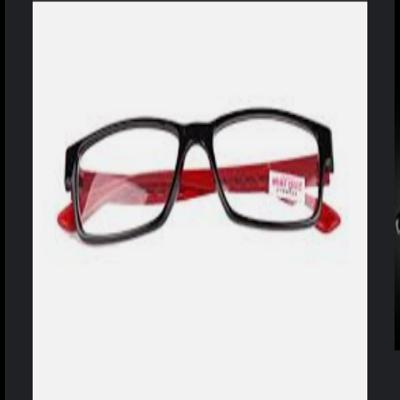glasses: (51, 101, 347, 264)
